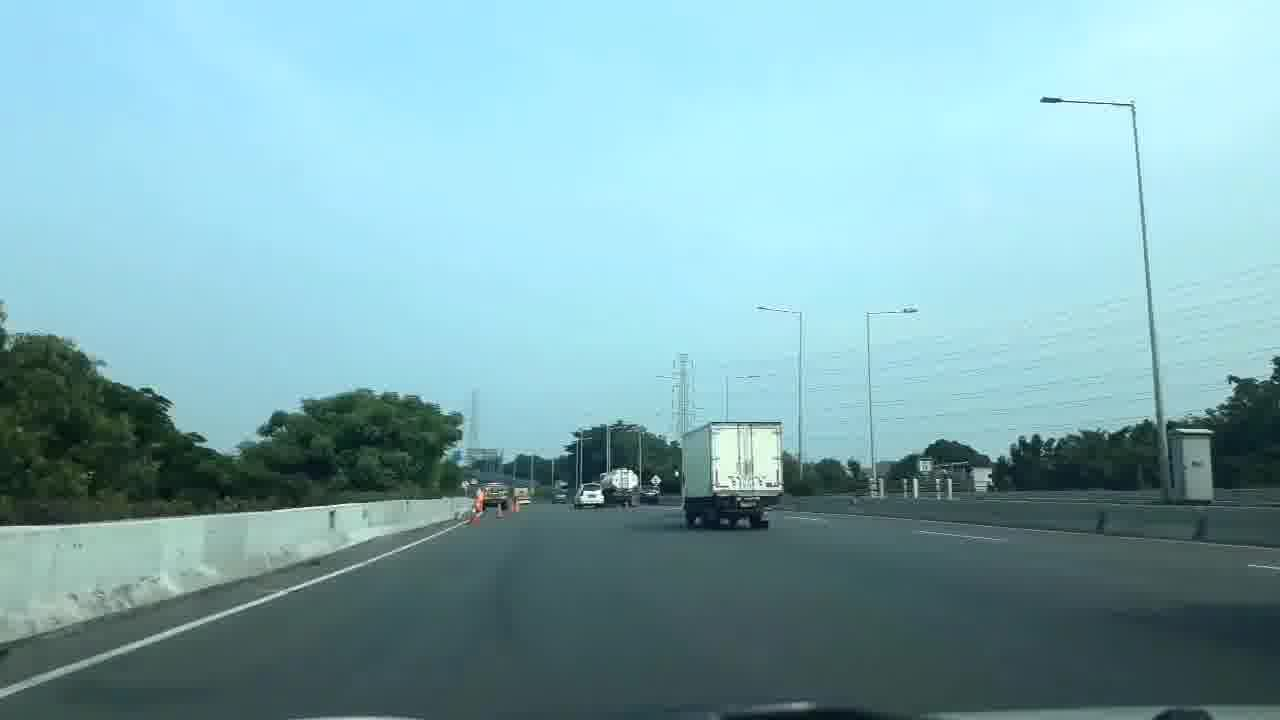plate_positive: (739, 501, 758, 508)
